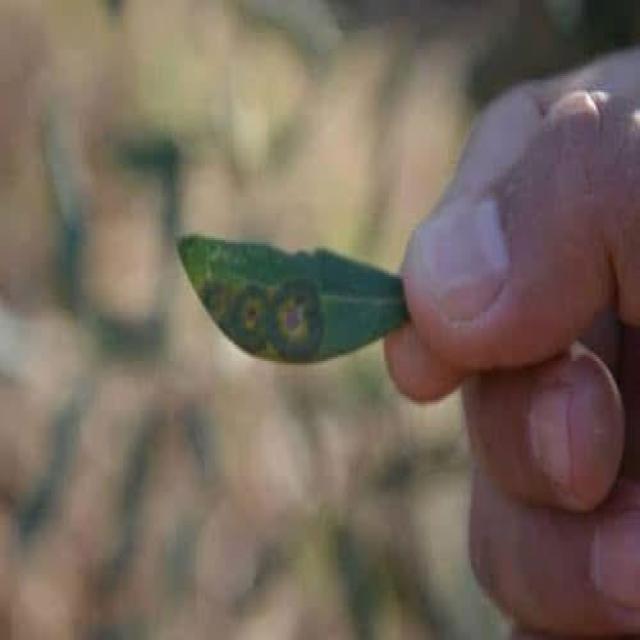Peacock Eye: (179, 236, 412, 357)
